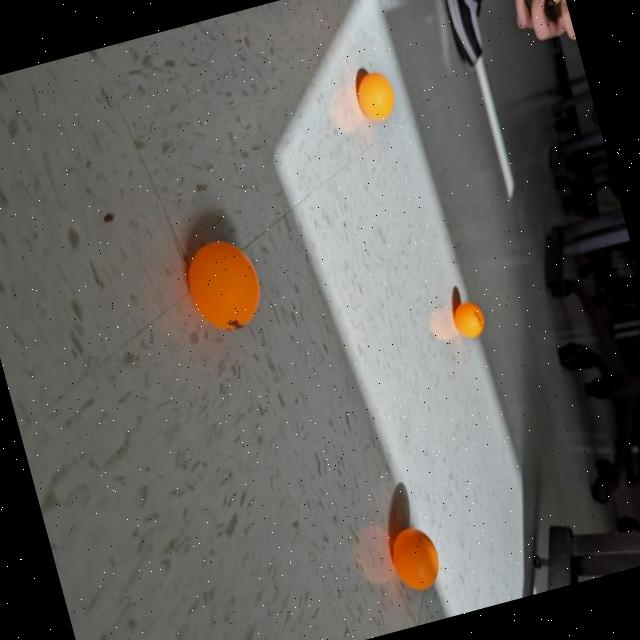ping-pong-ball: (174, 229, 273, 343), (382, 520, 448, 598), (348, 64, 401, 128), (446, 296, 489, 344)
